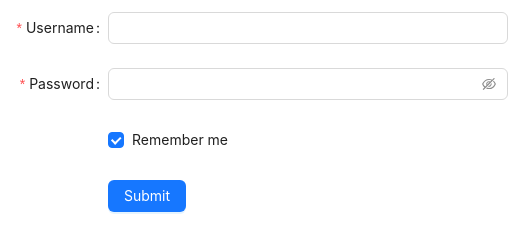
submit test › check if validation in username
What coordinates should you click on to do the following:
click the button "Submit"
I would click on:
 (147, 196)
Its box is [108,180,186,212].
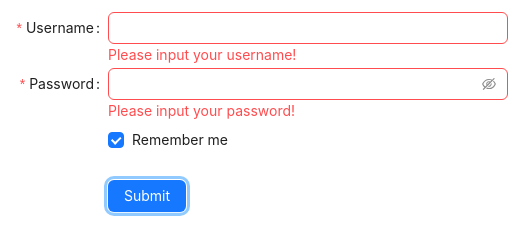
Now the text "Please input your username!" is shown, box [108,46,296,63]
